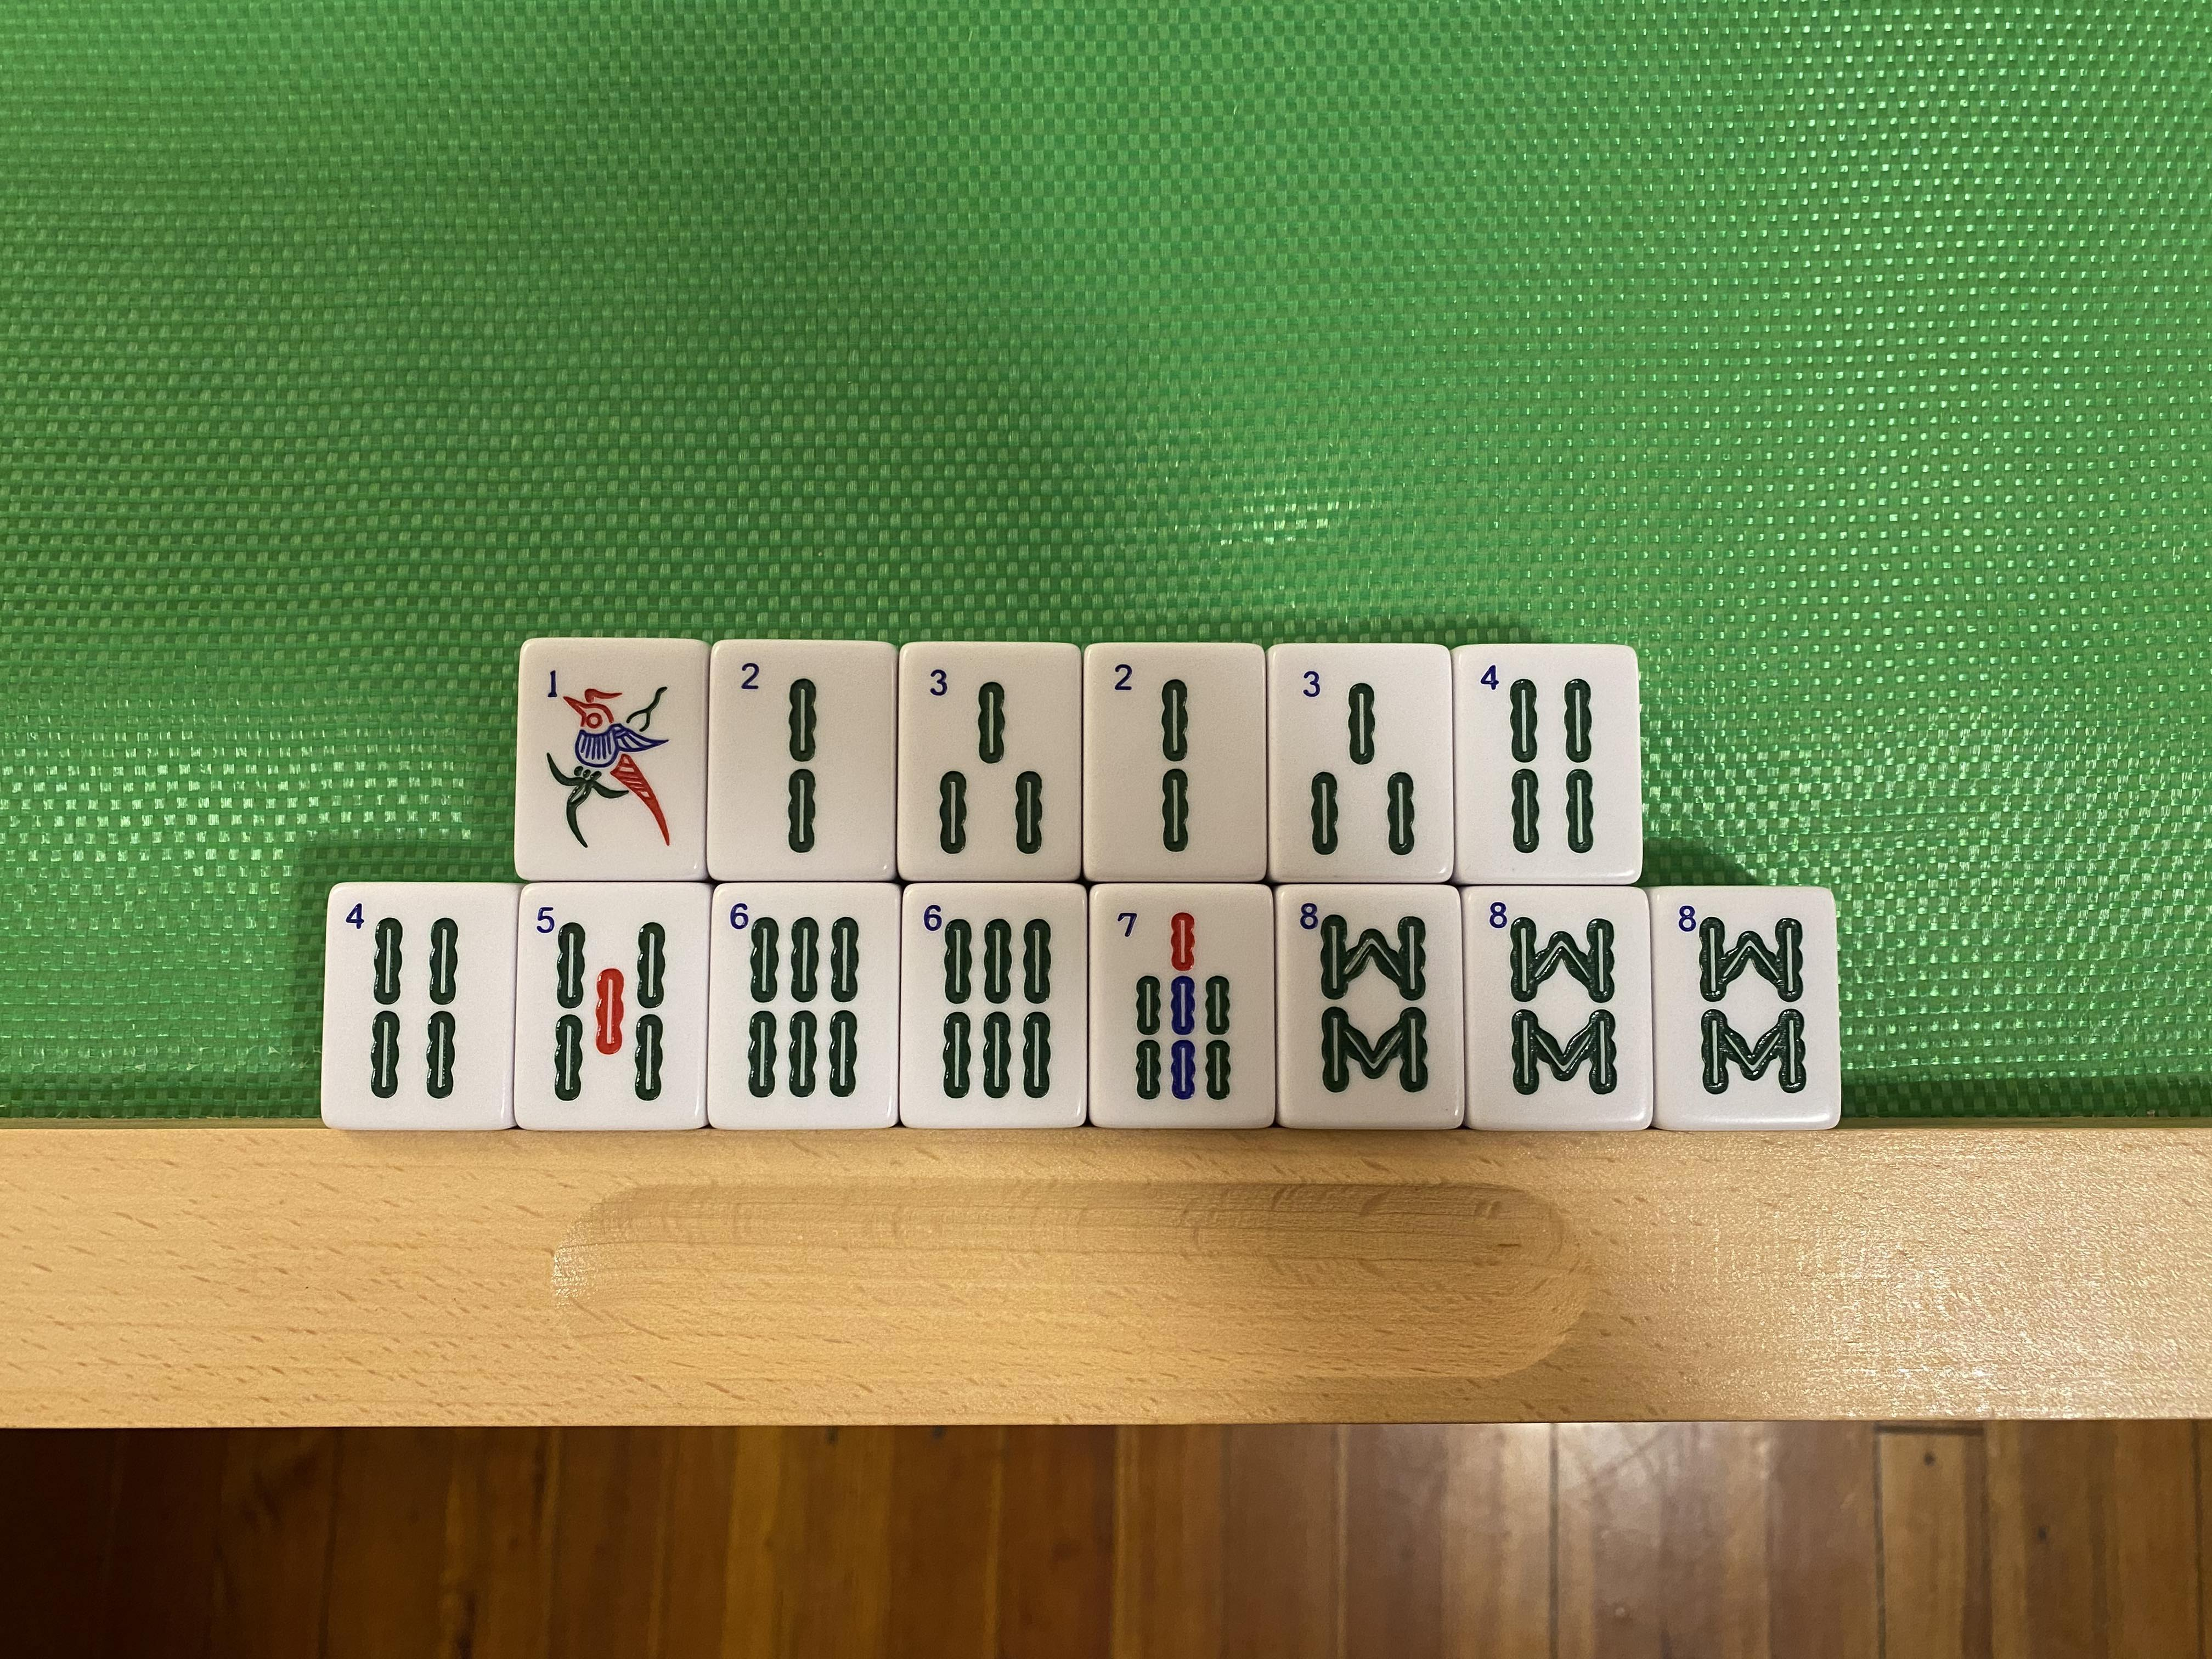bamboo-eight: (1280, 889, 1458, 1124), (1470, 889, 1646, 1126), (1655, 890, 1832, 1124)
bamboo-five: (517, 887, 709, 1127)
bamboo-four: (319, 887, 516, 1127), (1458, 647, 1639, 884)
bamboo-one: (516, 640, 707, 875)
bamboo-seven: (1090, 887, 1270, 1124)
bamboo-six: (712, 887, 897, 1126), (902, 885, 1085, 1124)
bamboo-three: (1270, 647, 1451, 878), (900, 647, 1080, 880)
bamboo-two: (707, 645, 897, 882), (1083, 647, 1263, 880)
